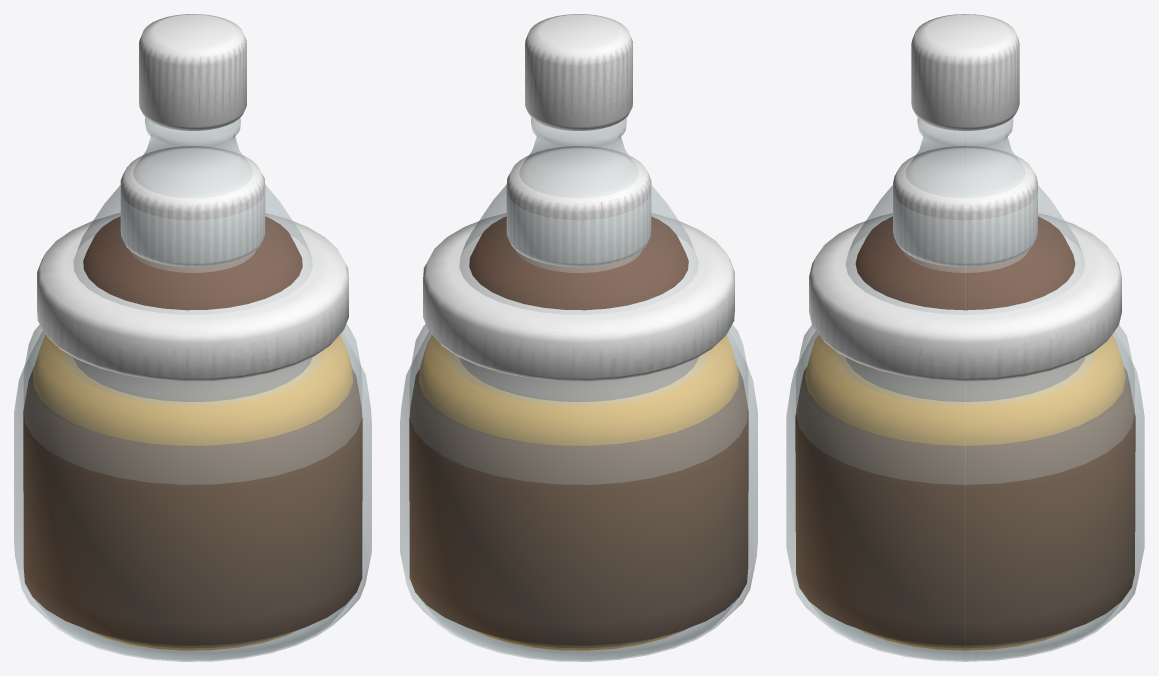
The model's file is bottles.glb.
The picture shows the model from 3 angles, left to right: view 1: azimuth 30°, elevation 25°; view 2: azimuth 150°, elevation 25°; view 3: azimuth 270°, elevation 25°; orthographic projection.
Visible parts, largest first — view 1: round_glass, round_liquid, jar_glass, tall_glass, jar_cap, jar_fill, round_cap, tall_liquid, tall_cap; view 2: round_glass, round_liquid, jar_glass, tall_glass, jar_cap, jar_fill, round_cap, tall_liquid, tall_cap; view 3: round_glass, round_liquid, jar_glass, tall_glass, jar_cap, jar_fill, round_cap, tall_liquid, tall_cap.
Part boxes in pixels (x1,y1,x2,y2): round_glass: [14, 251, 371, 661]; round_liquid: [23, 368, 362, 647]; jar_glass: [24, 324, 361, 660]; tall_glass: [73, 117, 312, 314]; jar_cap: [37, 213, 348, 381]; jar_fill: [33, 335, 352, 650]; round_cap: [120, 146, 265, 267]; tall_liquid: [73, 216, 311, 401]; tall_cap: [139, 14, 246, 130]; round_glass: [400, 251, 757, 661]; round_liquid: [409, 368, 748, 647]; jar_glass: [410, 324, 747, 660]; tall_glass: [459, 117, 698, 314]; jar_cap: [423, 213, 734, 381]; jar_fill: [419, 335, 738, 650]; round_cap: [506, 146, 651, 267]; tall_liquid: [460, 216, 698, 401]; tall_cap: [525, 14, 632, 130]; round_glass: [786, 251, 1144, 661]; round_liquid: [795, 367, 1135, 647]; jar_glass: [796, 325, 1134, 660]; tall_glass: [846, 118, 1084, 314]; jar_cap: [809, 213, 1121, 381]; jar_fill: [805, 335, 1125, 650]; round_cap: [893, 146, 1037, 267]; tall_liquid: [846, 216, 1084, 401]; tall_cap: [911, 14, 1019, 130].
Size of the model in its own units: 1.1 by 1.93 by 1.1.
Materials: 11 (6 with a texture image).
